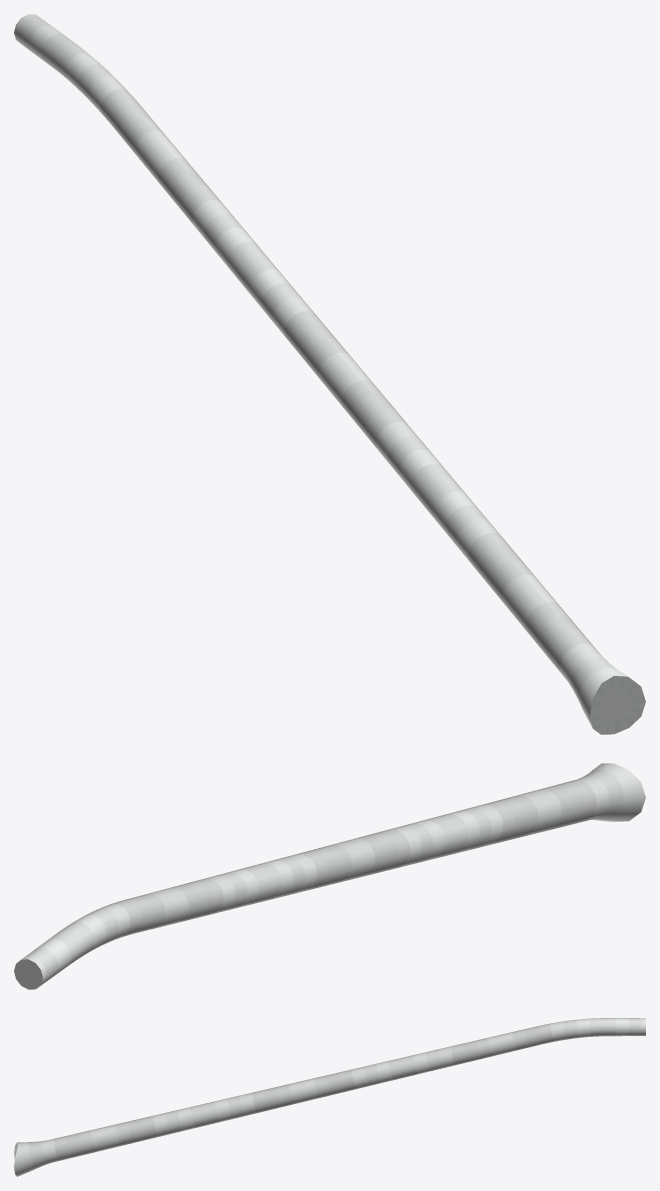
Rendered from luminairearm_caltrans15ftstraight_inv.obj.
The picture shows the model from 3 angles, top to bottom: view 1: azimuth 30°, elevation 25°; view 2: azimuth 150°, elevation 25°; view 3: azimuth 270°, elevation 25°; orthographic projection. The views are drawn at different scales.
Visible parts, largest first — view 1: luminairearm_caltrans15ftstraight_inv; view 2: luminairearm_caltrans15ftstraight_inv; view 3: luminairearm_caltrans15ftstraight_inv.
Part boxes in pixels (box(x1,y1,x2,y2)): luminairearm_caltrans15ftstraight_inv: box(14, 14, 645, 734); luminairearm_caltrans15ftstraight_inv: box(14, 763, 645, 989); luminairearm_caltrans15ftstraight_inv: box(14, 1018, 645, 1176).
Size of the model in its own units: 0.0547 by 0.273 by 1.
